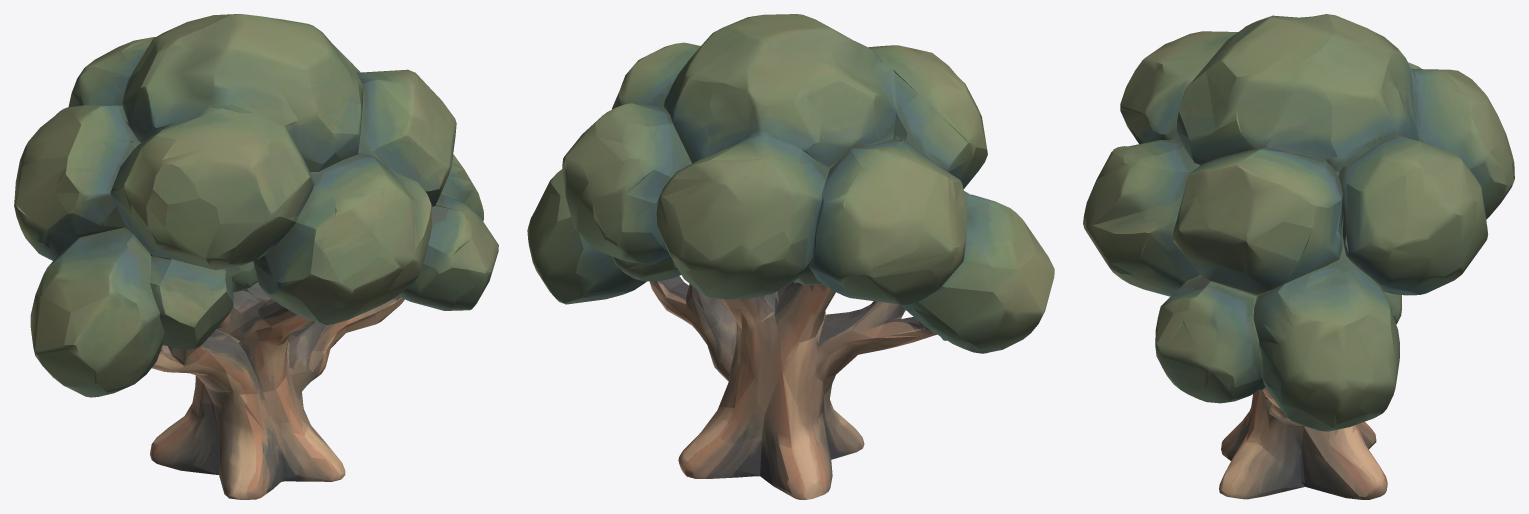
Rendered from oak.glb.
3 renders of one model, left to right at view 1: azimuth 30°, elevation 25°; view 2: azimuth 150°, elevation 25°; view 3: azimuth 270°, elevation 25°, orthographic.
Size of the model in its own units: 1.9 by 1.67 by 1.5.
Materials: 1 (1 with a texture image).
